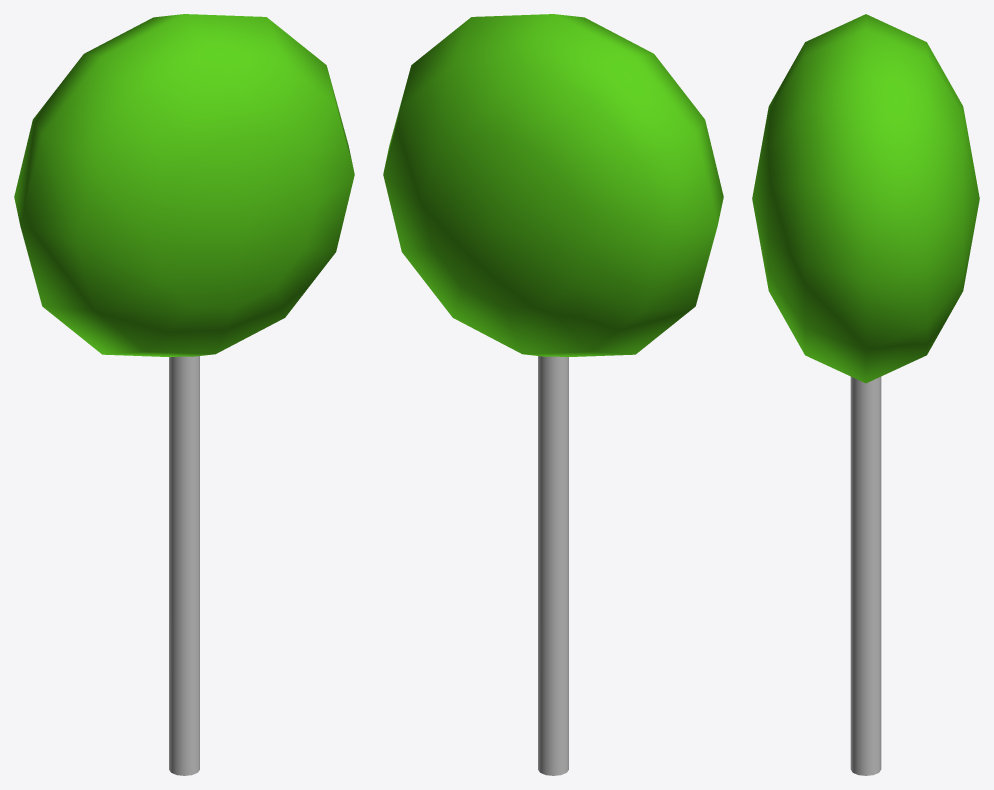
File: 3D_LollyPop_Circle_Green.FBX
3 views of the same model, side by side, from view 1: azimuth 30°, elevation 25°; view 2: azimuth 150°, elevation 25°; view 3: azimuth 270°, elevation 25° (orthographic). The views are drawn at different scales.
Visible parts, largest first — view 1: 3D_LollyPop_Circle_Green; view 2: 3D_LollyPop_Circle_Green; view 3: 3D_LollyPop_Circle_Green.
Boxes of the visible parts, x1,y1,x2,y2 form: 3D_LollyPop_Circle_Green: [14, 14, 354, 775]; 3D_LollyPop_Circle_Green: [383, 14, 723, 775]; 3D_LollyPop_Circle_Green: [752, 14, 979, 775].
Size of the model in its own units: 29.66 by 65.19 by 18.21.
